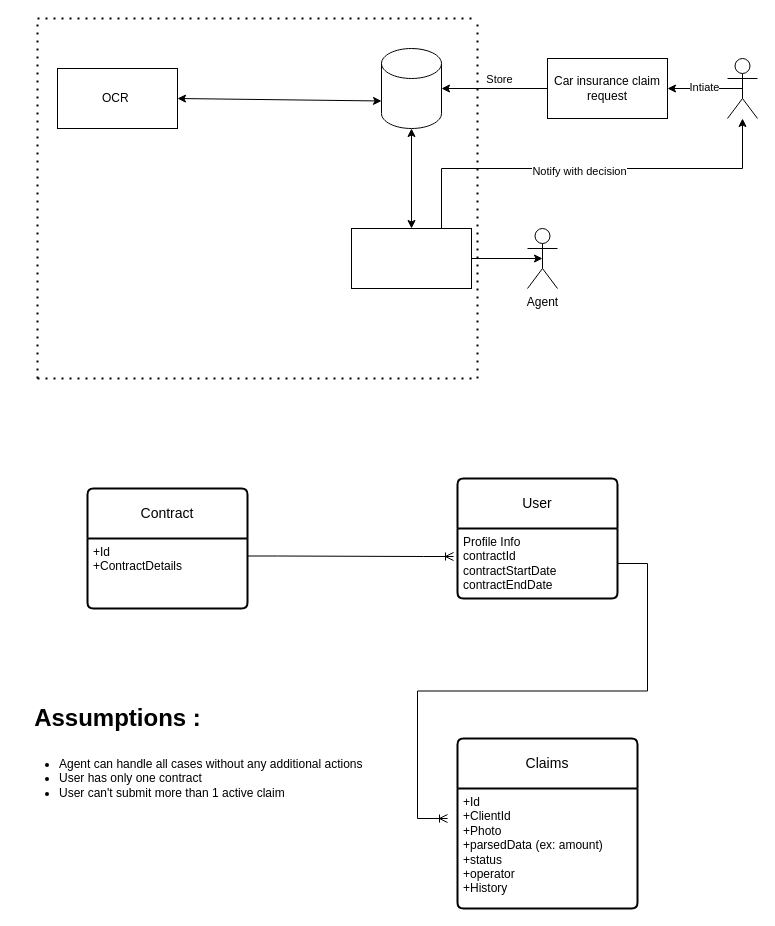
Some shapes in this 775 by 926 pixel diagram are drawn without their labels. Each missing label, with the centre of its shape:
"Client" goes at [742,88].
"DB (Claims)" goes at [411,88].
"Review system queue" goes at [411,258].
